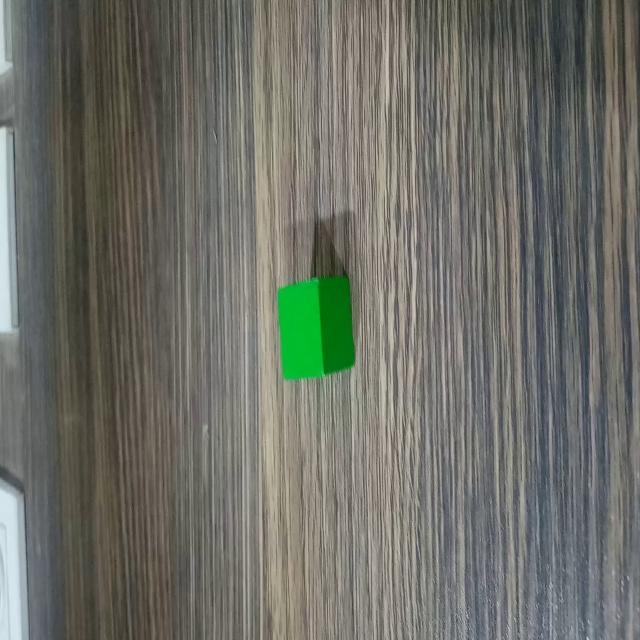cube: (274, 268, 360, 385)
